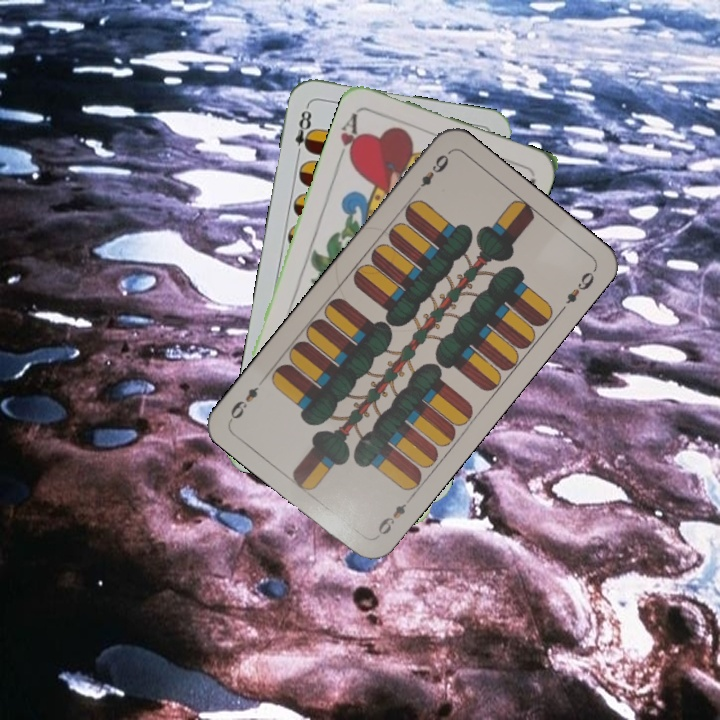E8: (291, 102, 316, 161)
E9: (411, 148, 452, 197), (374, 492, 414, 538)
HA: (333, 108, 364, 167)
